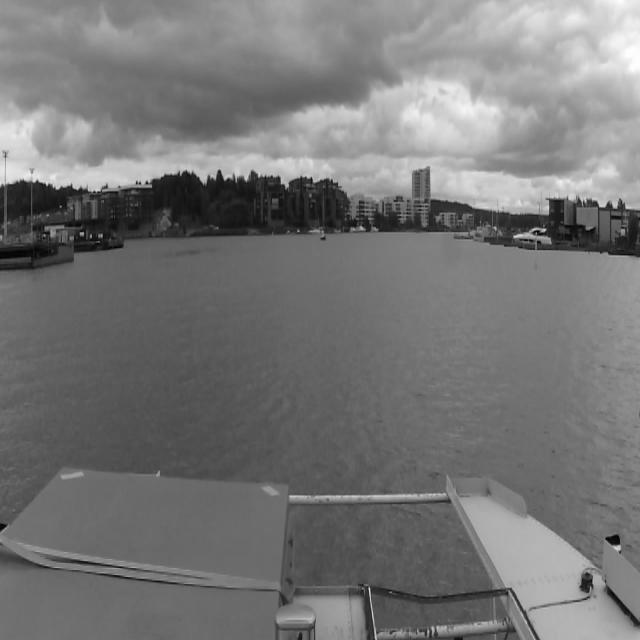ship: (512, 226, 552, 246), (318, 181, 326, 242)
